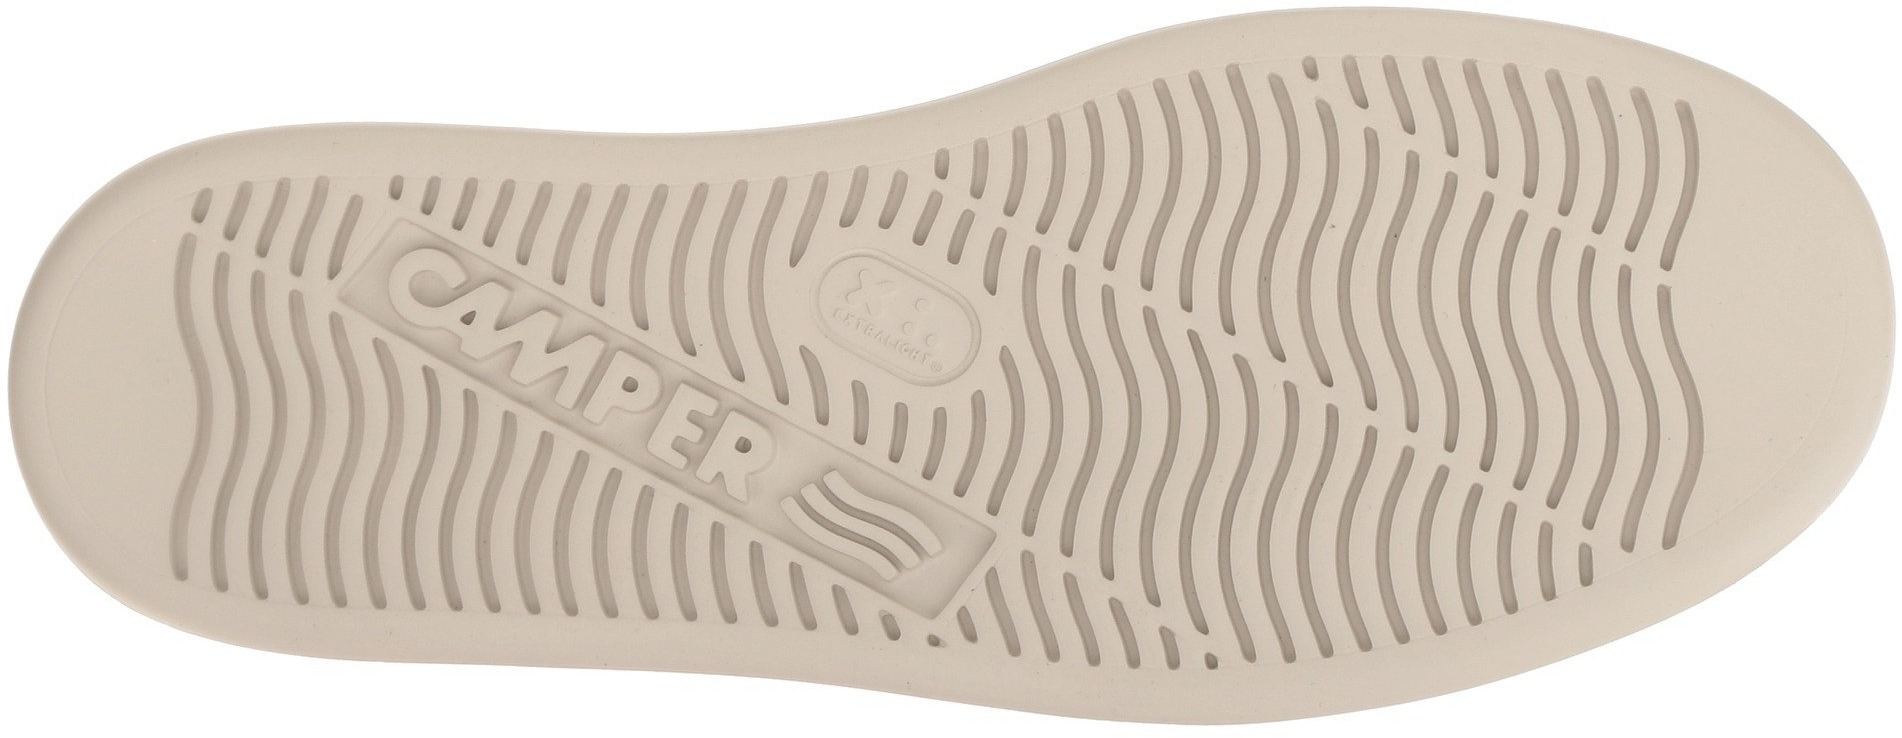chevron: (176, 348, 418, 600), (1027, 362, 1271, 592), (1504, 78, 1726, 313), (1270, 68, 1497, 291), (1044, 138, 1272, 359), (1275, 295, 1500, 511), (1507, 317, 1726, 530), (425, 452, 594, 617)
text: (488, 300, 596, 405), (374, 252, 485, 337), (701, 401, 786, 499), (600, 371, 695, 455)
